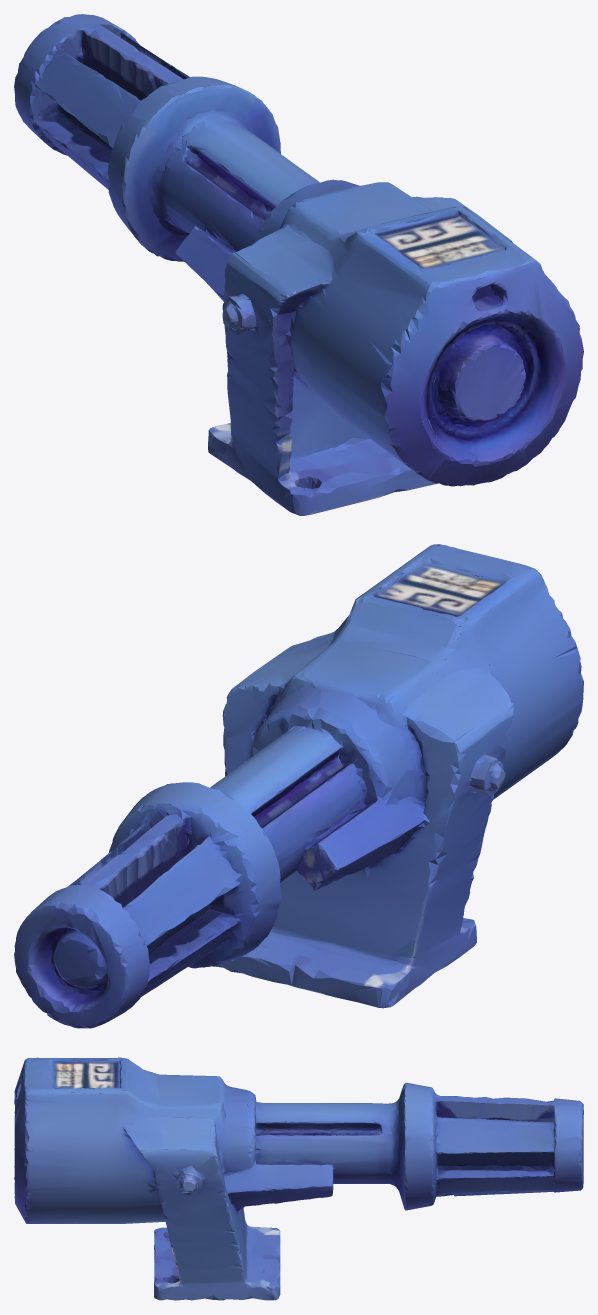
File: formulae_gatling.glb
The picture shows the model from 3 angles, top to bottom: view 1: azimuth 30°, elevation 25°; view 2: azimuth 150°, elevation 25°; view 3: azimuth 270°, elevation 25°; orthographic projection. The views are drawn at different scales.
Parts seen in each view (by area): view 1: Gatling_Formula_E; view 2: Gatling_Formula_E; view 3: Gatling_Formula_E.
Part boxes in pixels (bbox=[...]): Gatling_Formula_E: bbox=[14, 14, 583, 515]; Gatling_Formula_E: bbox=[14, 544, 583, 1028]; Gatling_Formula_E: bbox=[14, 1057, 583, 1300].
Size of the model in its own units: 0.2988 by 0.307 by 0.8012.
1 material, 1 textured.
